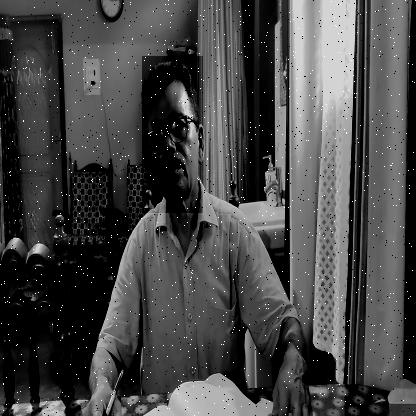Normal: (142, 56, 203, 213)
